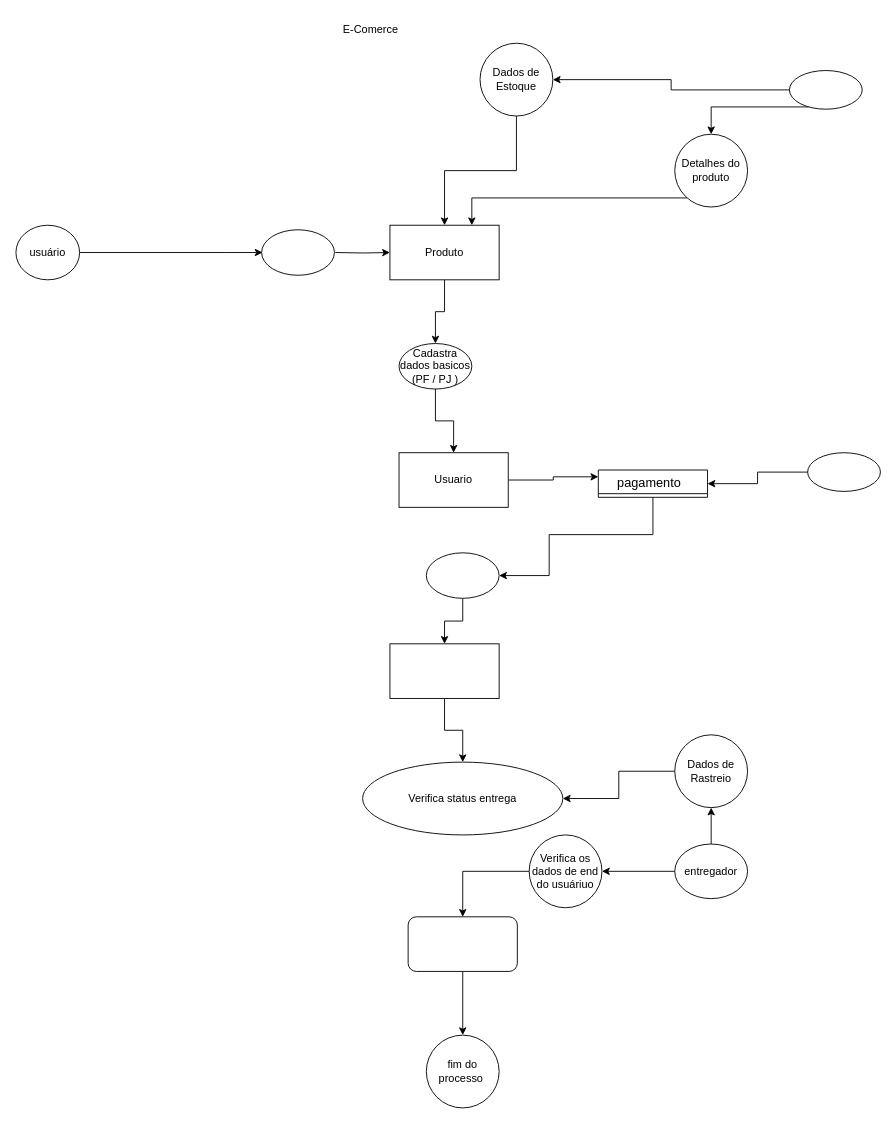
Some shapes in this 896 by 1124 pixel diagram are drawn without their labels. The centre of each missing label's shape, as x and y in pixels:
"banco" belongs at (x=843, y=471).
"compra" belongs at (x=444, y=670).
"Entrega Pedido" belongs at (x=462, y=943).
"fornecedor" belongs at (x=825, y=89).
"pagar" belongs at (x=462, y=575).
"procura produto" belongs at (x=297, y=252).
